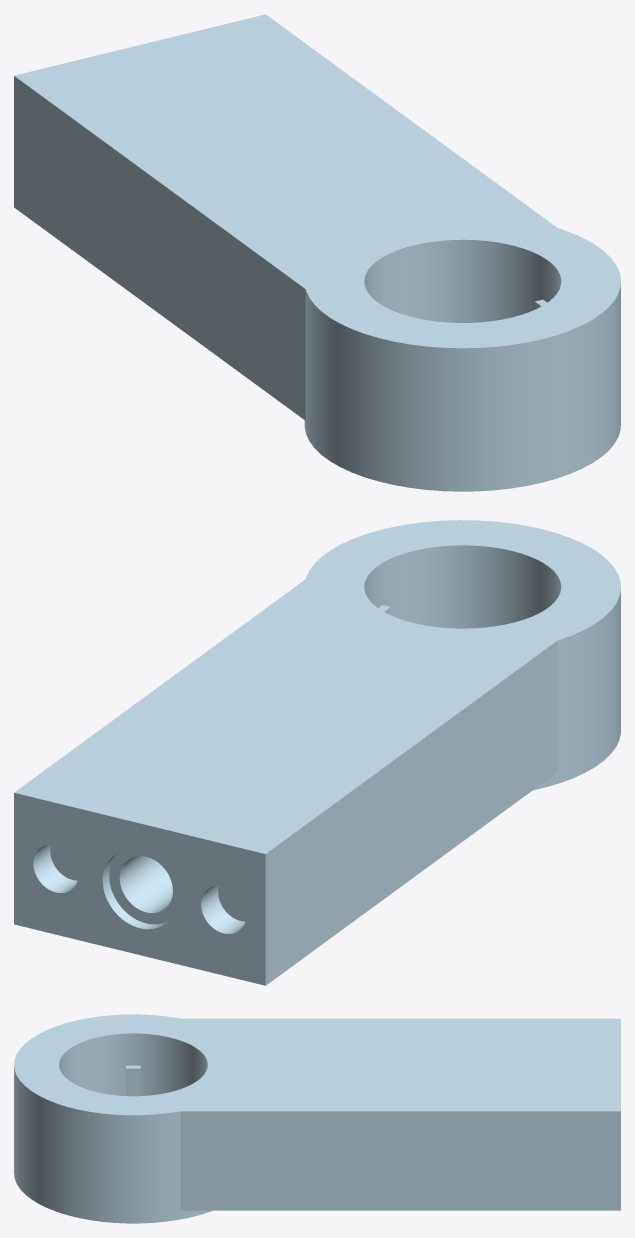
Rendered from CirclePostHole.gltf.
3 views of the same model, one above another, from view 1: azimuth 30°, elevation 25°; view 2: azimuth 150°, elevation 25°; view 3: azimuth 270°, elevation 25° (orthographic). The views are drawn at different scales.
Visible parts, largest first — view 1: Part 1; view 2: Part 1; view 3: Part 1.
Boxes of the visible parts, box(x1,y1,x2,y2) form: Part 1: box(14, 14, 620, 491); Part 1: box(14, 520, 620, 985); Part 1: box(14, 1014, 620, 1223).
Size of the model in its own units: 0.0489 by 0.0245 by 0.1245.
